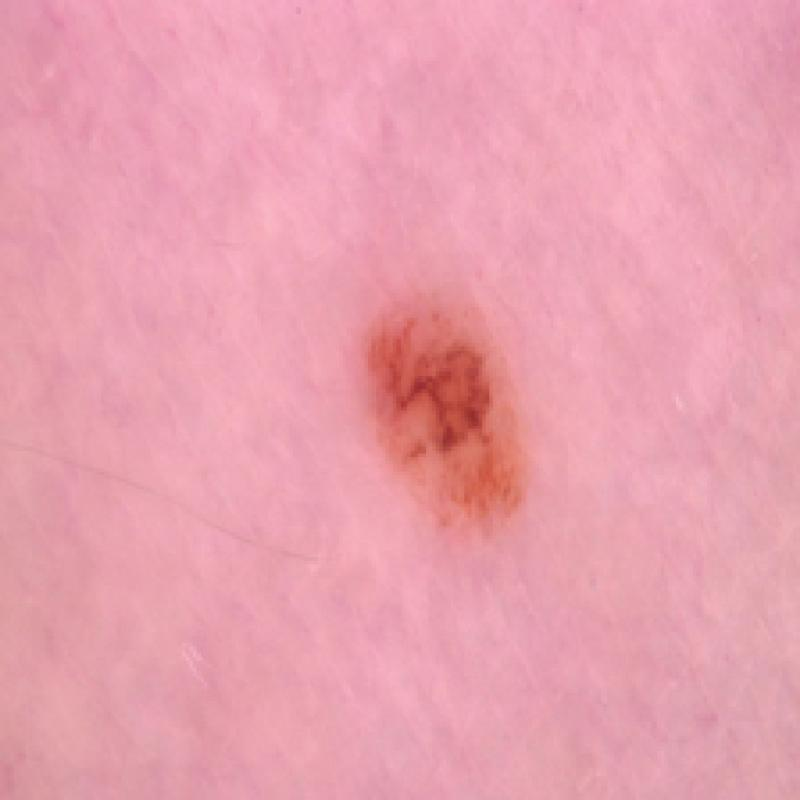benign: (330, 274, 542, 547)
